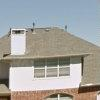Chimney: (7, 22, 29, 58)
